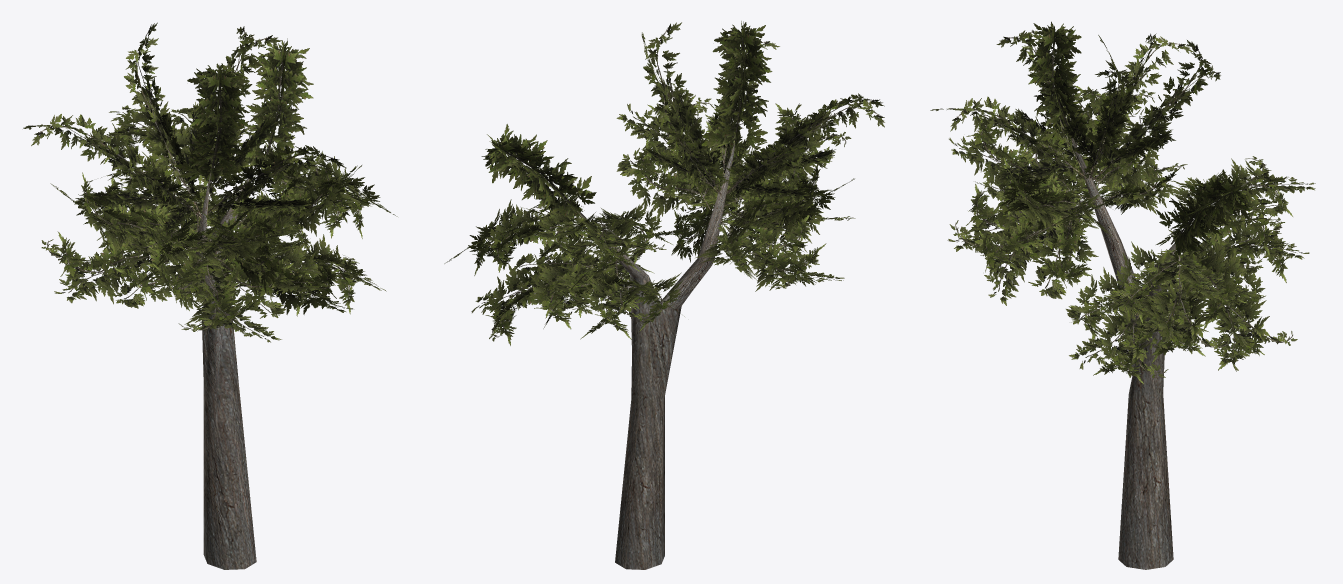
The model's file is Sharp_Maple02.gltf.
The picture shows the model from 3 angles, left to right: view 1: azimuth 30°, elevation 25°; view 2: azimuth 150°, elevation 25°; view 3: azimuth 270°, elevation 25°; orthographic projection. The views are drawn at different scales.
Visible parts, largest first — view 1: Dfol, Bfol, Cfol, Trunk, AFol, AAFol; view 2: Dfol, Cfol, Trunk, Bfol, AFol, AAFol; view 3: Dfol, Cfol, Bfol, Trunk, AFol, AAFol.
Part boxes in pixels (x1,y1,x2,y2): Dfol: [41, 174, 386, 342]; Bfol: [23, 22, 346, 237]; Cfol: [50, 101, 397, 271]; Trunk: [194, 164, 257, 569]; AFol: [175, 63, 250, 188]; AAFol: [238, 38, 313, 182]; Dfol: [471, 147, 855, 345]; Cfol: [444, 95, 854, 282]; Trunk: [577, 143, 734, 569]; Bfol: [633, 22, 884, 204]; AFol: [701, 21, 772, 158]; AAFol: [481, 124, 596, 240]; Dfol: [947, 150, 1309, 384]; Cfol: [949, 84, 1315, 358]; Bfol: [930, 30, 1220, 188]; Trunk: [1072, 138, 1176, 569]; AFol: [1028, 21, 1100, 153]; AAFol: [1155, 166, 1251, 268].
Bounding box in the file's own units: 11.95 × 16.77 × 11.83.
Materials: 2 (2 with a texture image).
